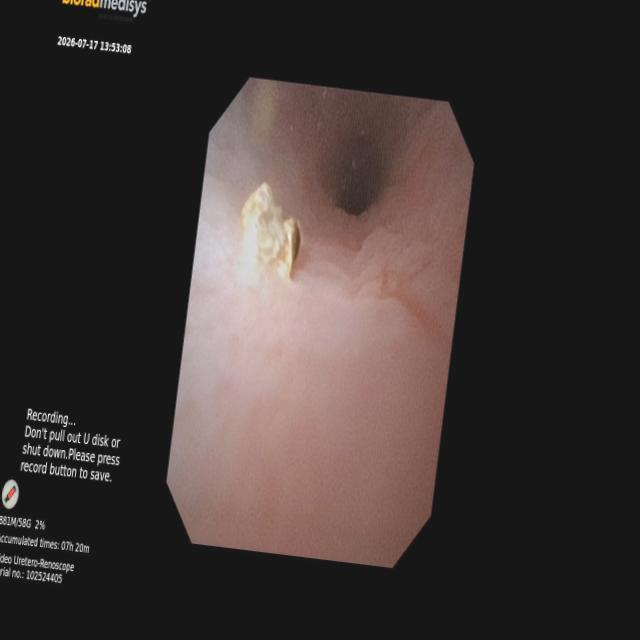stone-new: (241, 182, 299, 277)
